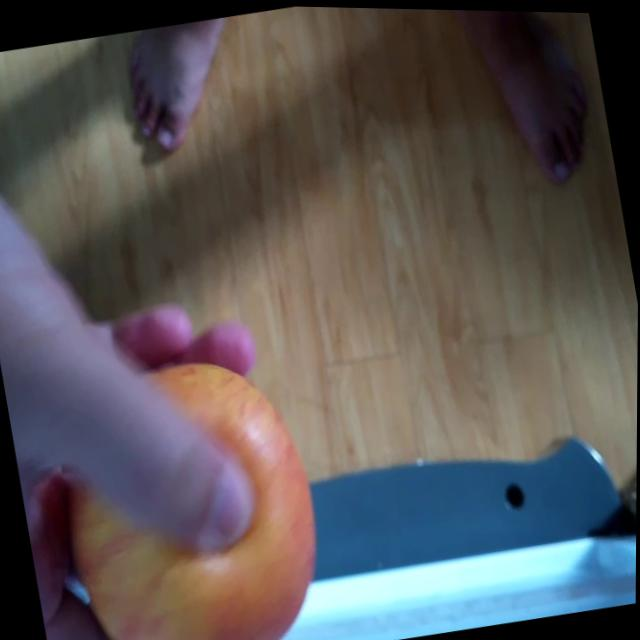apple: (42, 337, 340, 640)
